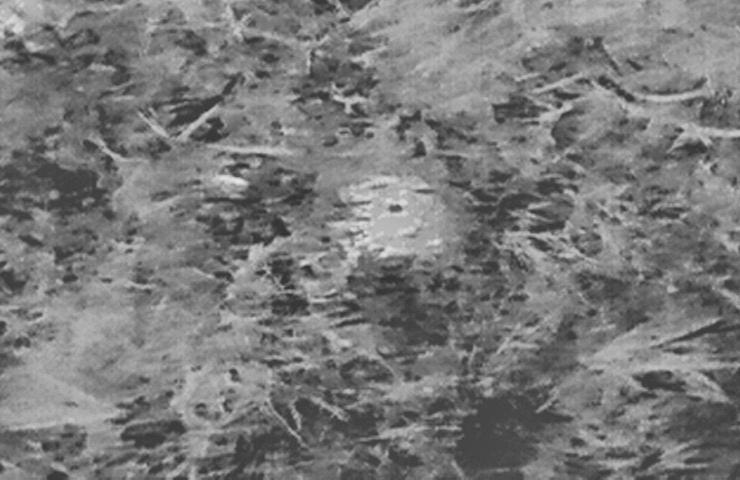landmines: (342, 171, 450, 267)
